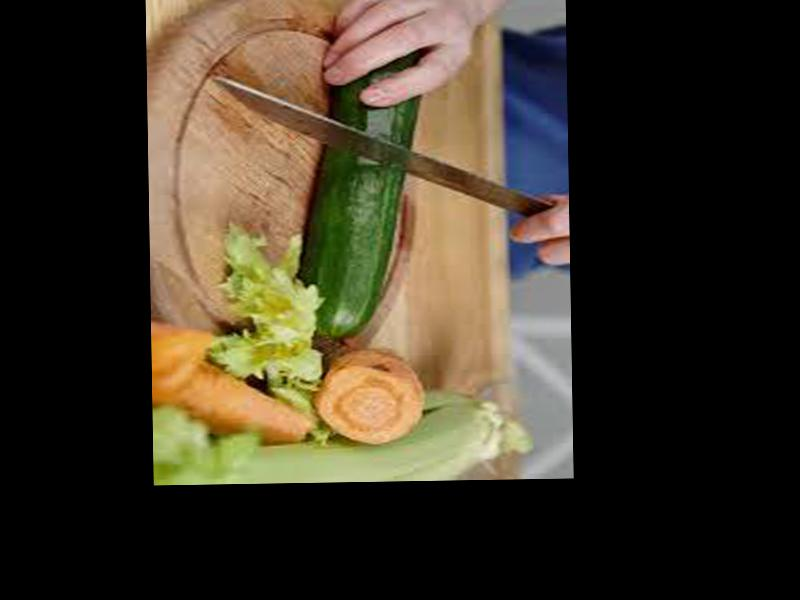Cucumber: (301, 50, 425, 340)
